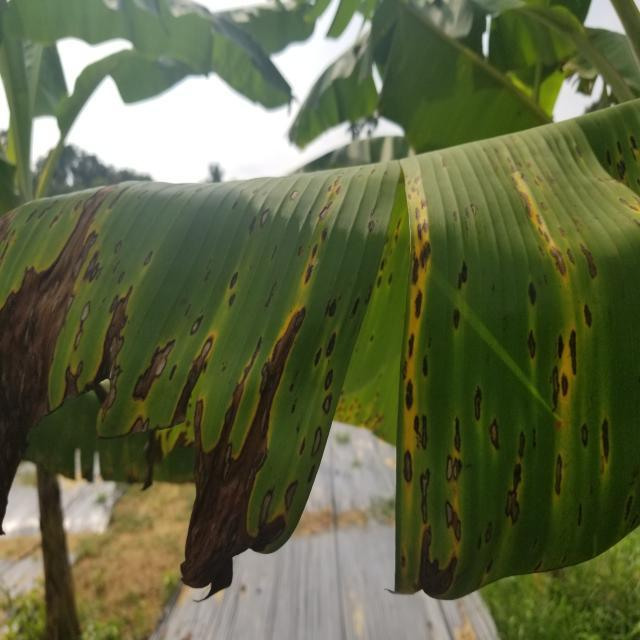Early_rust: (0, 124, 640, 588)
